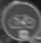bike lane: (3, 2, 36, 36)
